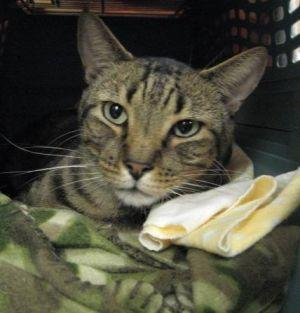bengal: (70, 2, 275, 214)
